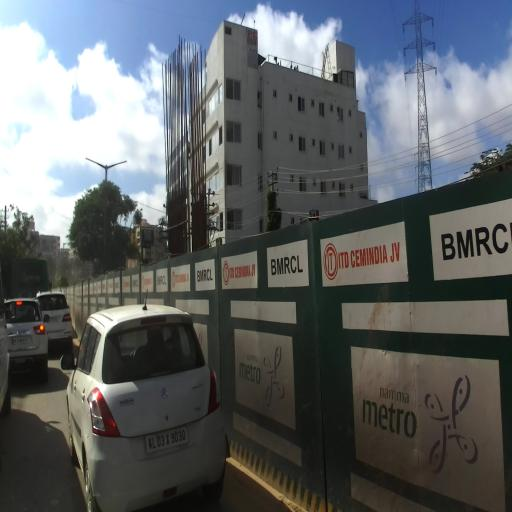street_light_0: (86, 157, 108, 172), (106, 161, 128, 172), (64, 240, 75, 247)
